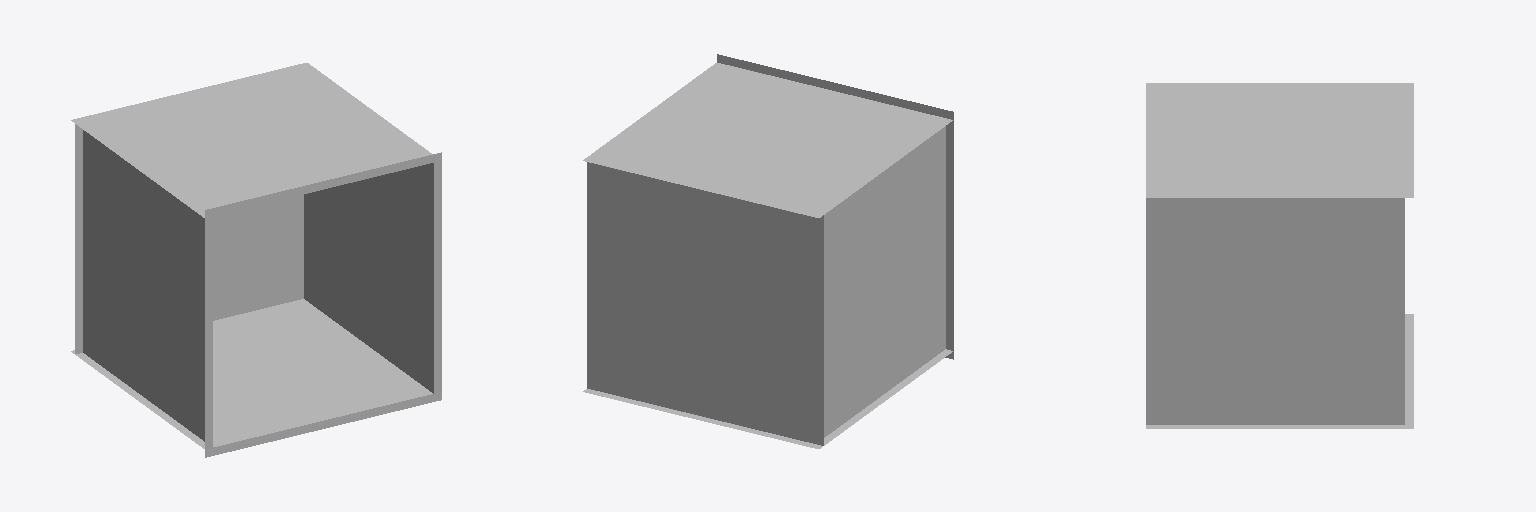
Rendered from box-streifen-atlas.obj.
The picture shows the model from 3 angles: view 1: azimuth 30°, elevation 25°; view 2: azimuth 150°, elevation 25°; view 3: azimuth 270°, elevation 25°; orthographic projection.
Parts seen in each view (by area): view 1: cornell-box-water_cornell-box-water_Khaki, cornell-box-water_cornell-box-water_yellow.001, cornell-box-water_cornell-box-water_nicered, cornell-box-water_cornell-box-water_black, cornell-box-water_cornell-box-water_lightgreen, cornell-box-water_cornell-box-water_blue; view 2: cornell-box-water_cornell-box-water_Khaki, cornell-box-water_cornell-box-water_blue, cornell-box-water_cornell-box-water_yellow.001, cornell-box-water_cornell-box-water_nicered, cornell-box-water_cornell-box-water_lightgreen, cornell-box-water_cornell-box-water_black; view 3: cornell-box-water_cornell-box-water_Khaki.
Part boxes in pixels (x1,y1,x2,y2): cornell-box-water_cornell-box-water_Khaki: (71, 63, 433, 448); cornell-box-water_cornell-box-water_yellow.001: (148, 177, 252, 422); cornell-box-water_cornell-box-water_nicered: (180, 194, 303, 441); cornell-box-water_cornell-box-water_black: (205, 152, 441, 457); cornell-box-water_cornell-box-water_lightgreen: (75, 127, 114, 375); cornell-box-water_cornell-box-water_blue: (115, 153, 147, 399); cornell-box-water_cornell-box-water_Khaki: (583, 63, 952, 448); cornell-box-water_cornell-box-water_blue: (705, 174, 880, 431); cornell-box-water_cornell-box-water_yellow.001: (646, 150, 912, 416); cornell-box-water_cornell-box-water_nicered: (587, 126, 945, 402); cornell-box-water_cornell-box-water_lightgreen: (765, 198, 847, 445); cornell-box-water_cornell-box-water_black: (717, 54, 953, 359); cornell-box-water_cornell-box-water_Khaki: (1146, 83, 1413, 428).
Bounding box in the file's own units: 5.9 × 5.9 × 5.8.